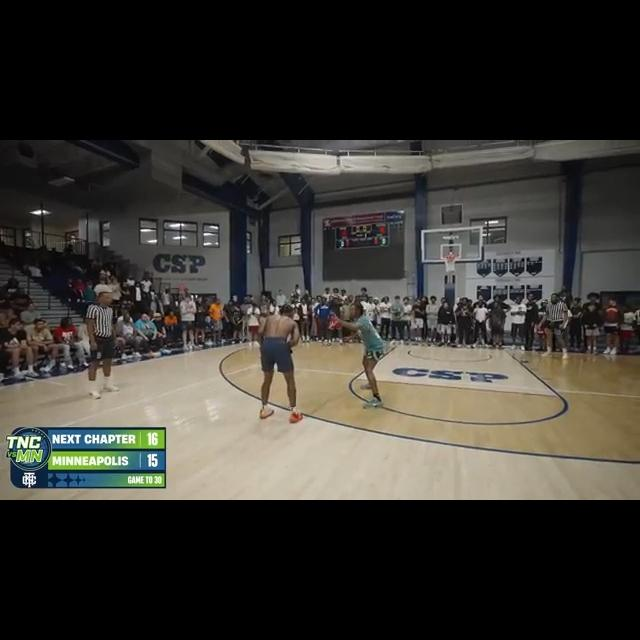hoop: (443, 249, 459, 273)
